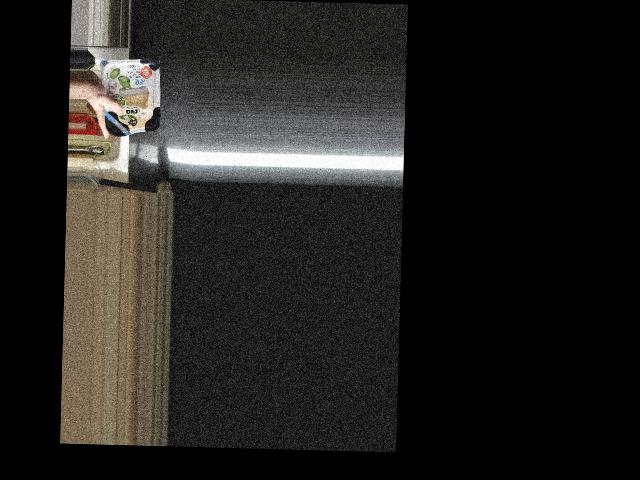cheese: (99, 60, 161, 137)
